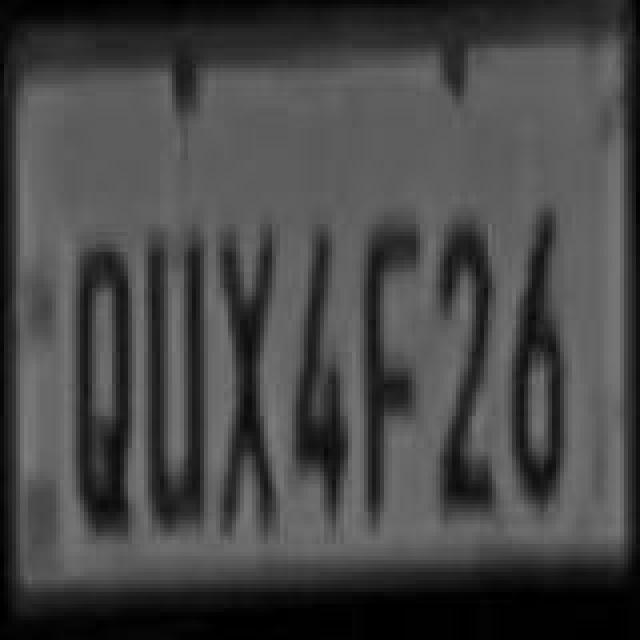2: (432, 218, 496, 518)
4: (290, 222, 350, 530)
6: (506, 206, 566, 514)
F: (362, 222, 422, 530)
Q: (72, 238, 136, 538)
U: (144, 226, 208, 542)
X: (216, 228, 280, 548)
